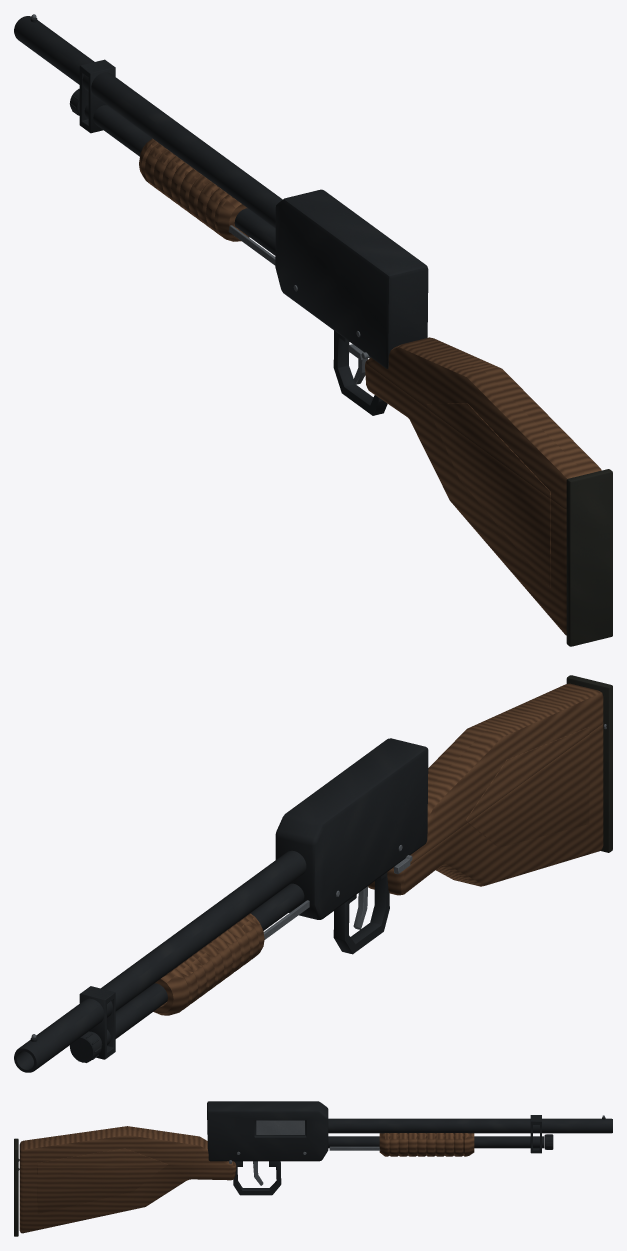
Rendered from shotgun_realistic.glb.
The picture shows the model from 3 angles, top to bottom: view 1: azimuth 30°, elevation 25°; view 2: azimuth 150°, elevation 25°; view 3: azimuth 270°, elevation 25°; orthographic projection. The views are drawn at different scales.
Visible parts, largest first — view 1: Walnut shoulder stock, 870 class rounded receiver, Walnut cheek panel, Shotgun barrel, Shotgun recoil pad, Grooved walnut pump slide, Tube magazine, Trigger guard, Barrel magazine clamp; view 2: Walnut shoulder stock, 870 class rounded receiver, Walnut cheek panel, Shotgun barrel, Grooved walnut pump slide, Tube magazine, Trigger guard, Shotgun recoil pad, Barrel magazine clamp, Magazine cap; view 3: Walnut shoulder stock, 870 class rounded receiver, Walnut cheek panel.001, Shotgun barrel, Grooved walnut pump slide, Tube magazine, Shotgun visible bolt, Trigger guard, Shotgun recoil pad, Barrel magazine clamp, Pump action bar.001.
Part boxes in pixels (x1,y1,x2,y2): Walnut shoulder stock: (365, 337, 601, 635); 870 class rounded receiver: (275, 189, 428, 368); Walnut cheek panel: (426, 403, 550, 587); Shotgun barrel: (14, 16, 282, 228); Shotgun recoil pad: (566, 469, 612, 646); Grooved walnut pump slide: (139, 138, 249, 241); Tube magazine: (84, 103, 275, 255); Trigger guard: (333, 330, 387, 415); Barrel magazine clamp: (79, 59, 115, 133); Walnut shoulder stock: (368, 683, 603, 895); 870 class rounded receiver: (275, 738, 428, 919); Walnut cheek panel: (465, 727, 589, 847); Shotgun barrel: (14, 850, 306, 1072); Grooved walnut pump slide: (153, 913, 264, 1015); Tube magazine: (90, 883, 304, 1046); Trigger guard: (333, 872, 389, 954); Shotgun recoil pad: (566, 675, 612, 852); Barrel magazine clamp: (79, 986, 115, 1059); Magazine cap: (70, 1031, 101, 1062); Walnut shoulder stock: (19, 1126, 236, 1233); 870 class rounded receiver: (207, 1101, 328, 1161); Walnut cheek panel.001: (37, 1148, 167, 1213); Shotgun barrel: (328, 1118, 612, 1133); Grooved walnut pump slide: (379, 1133, 474, 1156); Tube magazine: (328, 1136, 544, 1148); Shotgun visible bolt: (256, 1120, 304, 1134); Trigger guard: (233, 1161, 281, 1195); Shotgun recoil pad: (14, 1138, 18, 1236); Barrel magazine clamp: (530, 1115, 541, 1153); Pump action bar.001: (329, 1146, 380, 1150).
Size of the model in its own units: 0.052 by 0.241 by 1.04.
5 materials, 5 textured.
